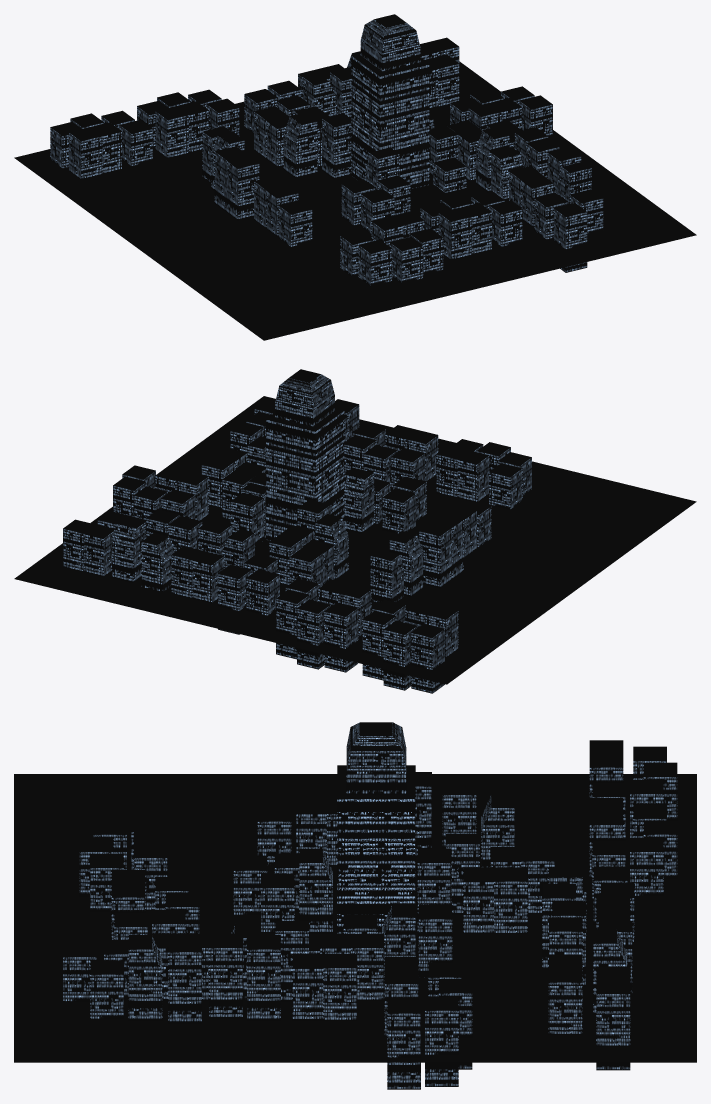
Rendered from city1.glb.
3 renders of one model, top to bottom at view 1: azimuth 30°, elevation 25°; view 2: azimuth 150°, elevation 25°; view 3: azimuth 270°, elevation 25°, orthographic. The views are drawn at different scales.
Visible parts, largest first — view 1: Plane, Cube, Cube.006, Cube.068, Cube.023, Cube.063, Cube.004, Cube.009, Cube.017, Cube.014, Cube.042, Cube.037 (+37 smaller); view 2: Plane, Cube, Cube.006, Cube.029, Cube.049, Cube.052, Cube.045, Cube.010, Cube.061, Cube.066, Cube.065, Cube.014 (+36 smaller); view 3: Plane, Cube, Cube.039, Cube.013, Cube.052, Cube.059, Cube.031, Cube.034, Cube.035, Cube.036, Cube.057, Cube.051 (+53 smaller).
Boxes of the visible parts, x1,y1,x2,y2 form: Plane: (14,61,696,340); Cube: (351,14,429,189); Cube.006: (214,146,259,220); Cube.068: (69,122,121,179); Cube.023: (438,203,491,260); Cube.063: (155,101,208,158); Cube.004: (283,112,317,178); Cube.009: (322,113,351,179); Cube.017: (254,176,298,236); Cube.014: (254,106,289,166); Cube.042: (553,203,587,272); Cube.037: (509,166,553,226); Plane: (14,396,696,684); Cube: (266,369,344,540); Cube.006: (419,514,463,588); Cube.029: (436,445,489,502); Cube.049: (171,546,224,603); Cube.052: (63,519,114,576); Cube.045: (112,516,145,582); Cube.010: (344,467,374,533); Cube.061: (324,602,358,672); Cube.066: (411,623,444,693); Cube.065: (383,620,417,690); Cube.014: (289,540,334,587); Plane: (14,774,696,1062); Cube: (337,722,415,933); Cube.039: (292,953,356,1020); Cube.013: (463,867,527,933); Cube.052: (596,966,630,1070); Cube.059: (387,999,420,1089); Cube.031: (168,938,201,1023); Cube.034: (209,933,242,1018); Cube.035: (247,935,280,1020); Cube.036: (128,935,162,1020); Cube.057: (425,996,458,1086); Cube.051: (548,955,582,1034).
Bounding box in the file's own units: 200 × 85.59 × 200.
3 materials, 2 textured.
